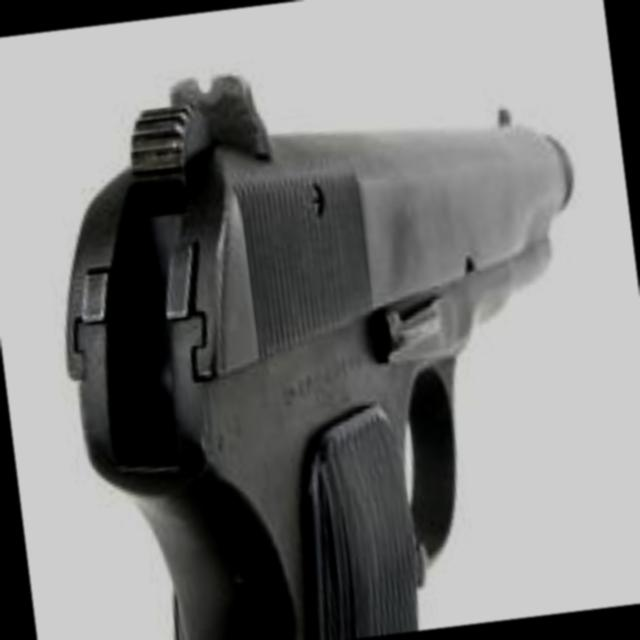semi automatic: (17, 20, 635, 640)
